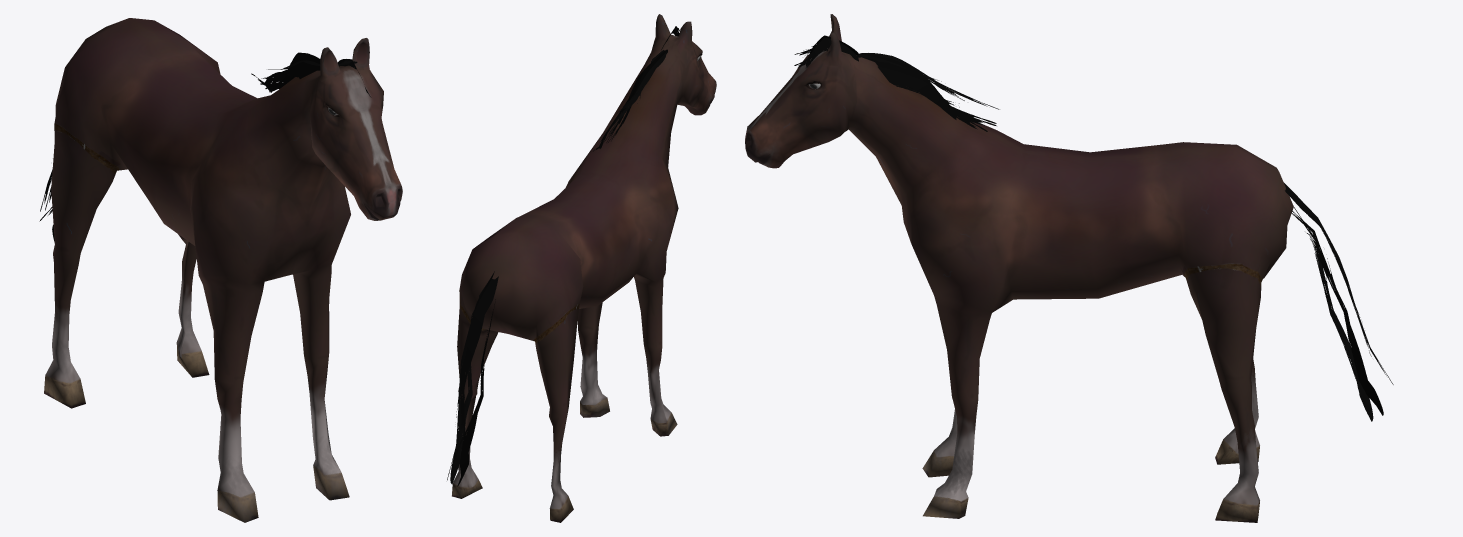
Rendered from horse.fbx.
The picture shows the model from 3 angles, left to right: view 1: azimuth 30°, elevation 25°; view 2: azimuth 150°, elevation 25°; view 3: azimuth 270°, elevation 25°; orthographic projection. The views are drawn at different scales.
Visible parts, largest first — view 1: Horse; view 2: Horse; view 3: Horse.
Boxes of the visible parts, x1,y1,x2,y2 form: Horse: (39, 18, 402, 522); Horse: (447, 14, 716, 522); Horse: (745, 14, 1393, 522).
Bounding box in the file's own units: 95.81 × 312 × 424.
Materials: 2 (2 with a texture image).
